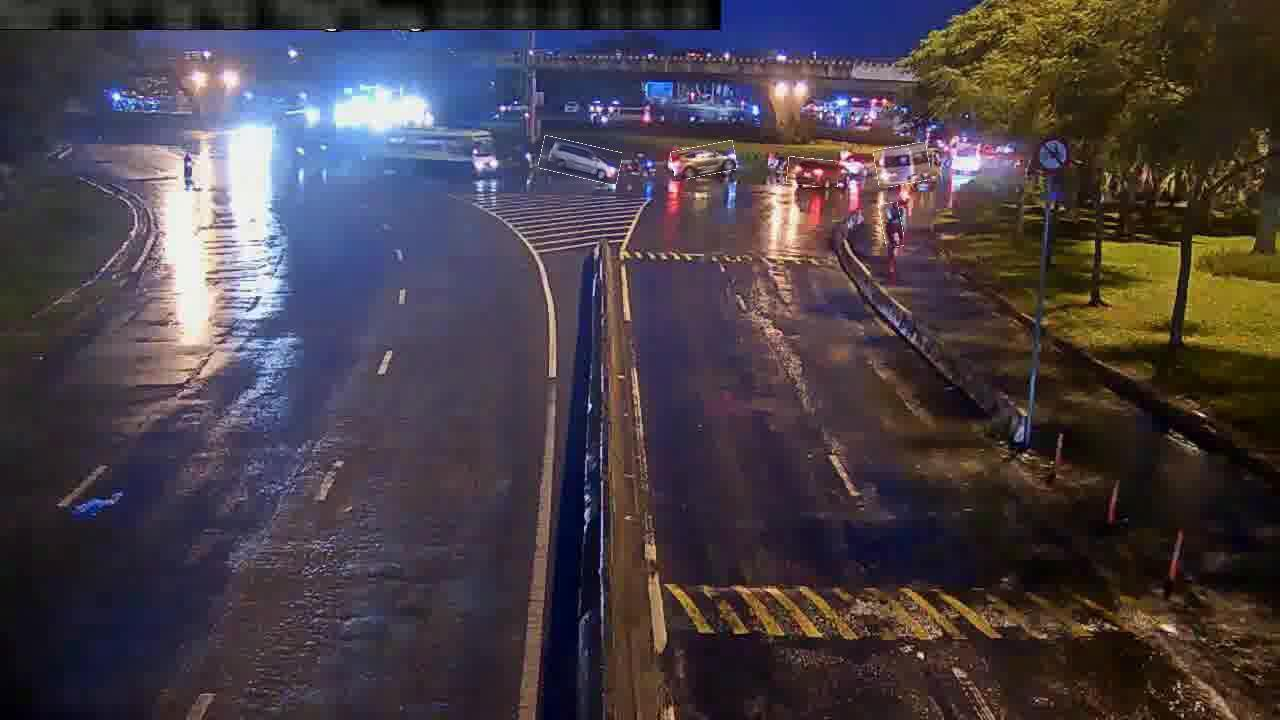14: (875, 144, 930, 186)
container: (540, 140, 622, 181), (671, 143, 736, 178), (787, 158, 839, 187)
motorbike: (880, 202, 903, 248)
